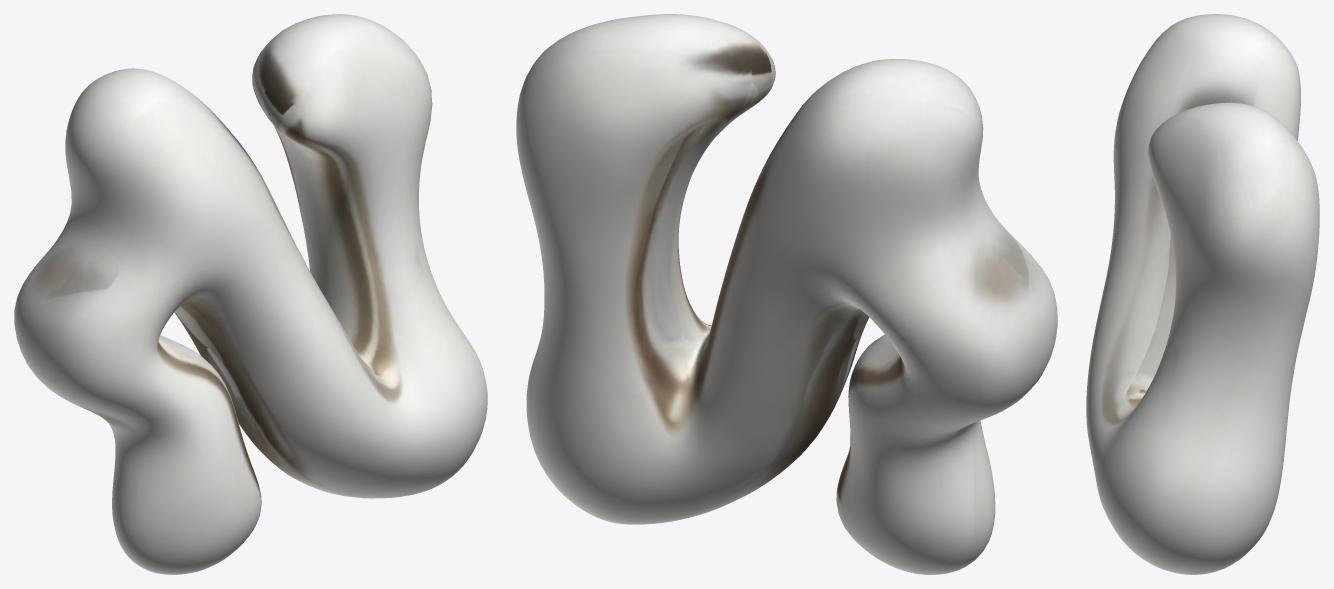
Rendered from N_0110005844_texture.glb.
The picture shows the model from 3 angles, left to right: view 1: azimuth 30°, elevation 25°; view 2: azimuth 150°, elevation 25°; view 3: azimuth 270°, elevation 25°; orthographic projection. The views are drawn at different scales.
Size of the model in its own units: 1.97 by 2 by 0.9604.
1 material, 1 textured.
